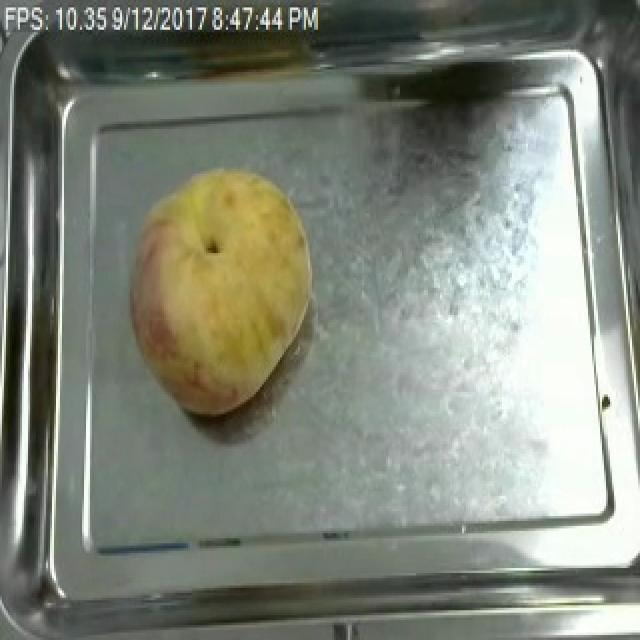Fruit: (120, 156, 320, 424)
